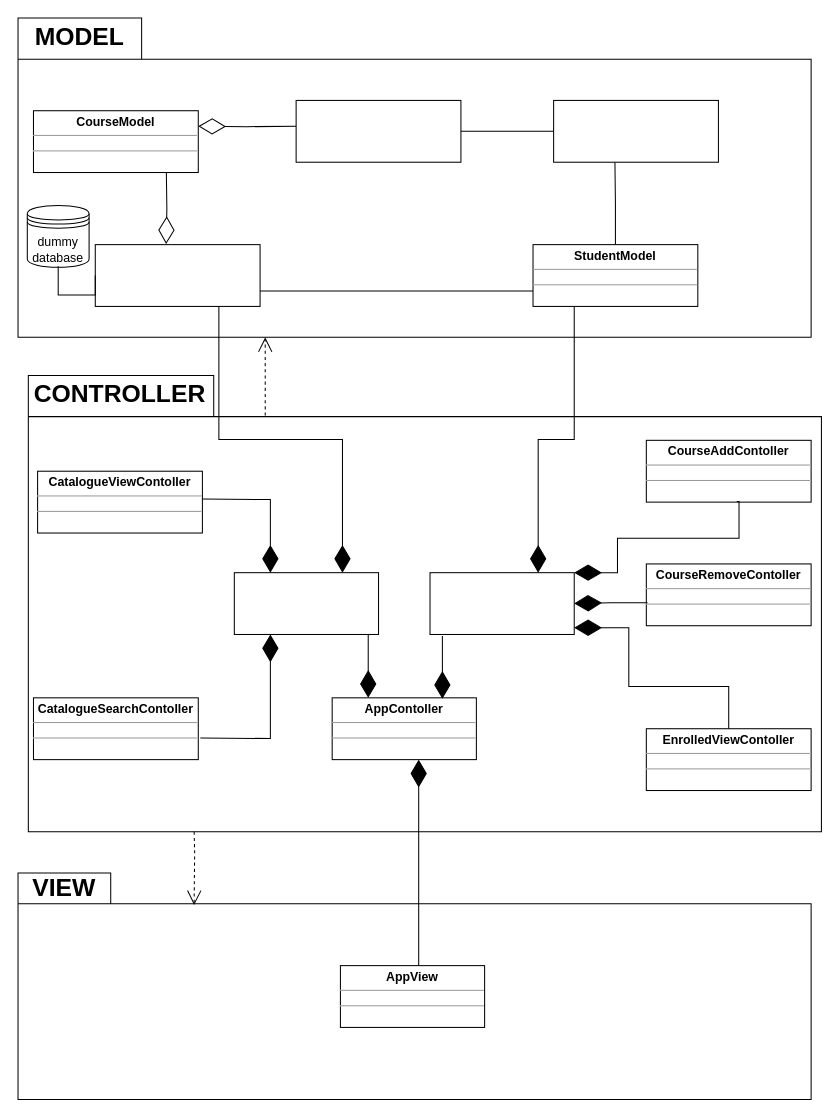
This 839x1118 diagram has some shape labels left out. The centre of each missing label's shape, as x and y in pixels:
"CatalogueContoller" belongs at pixel 306 603.
"CatalogueModel" belongs at pixel 177 275.
"OfferingModel" belongs at pixel 378 130.
"RegistrationModel" belongs at pixel 635 130.
"StudentContoller" belongs at pixel 501 603.
